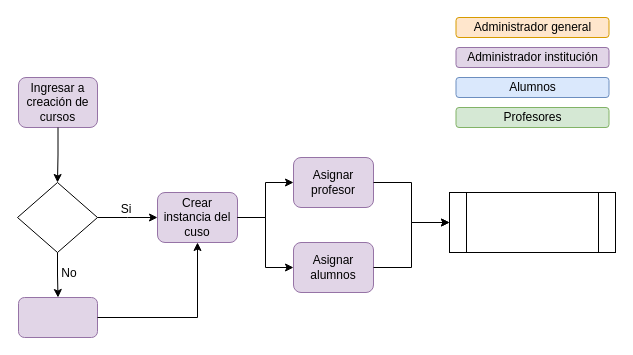
Image size: 633x355. Some labels were removed from this diagram. The centre of each missing label's shape, as x and y in pixels:
"Crear curso" goes at [58,317].
"Existe el curso?" goes at [57,217].
"Mail a alumnos y profesores con información del curso" goes at [532,222].
